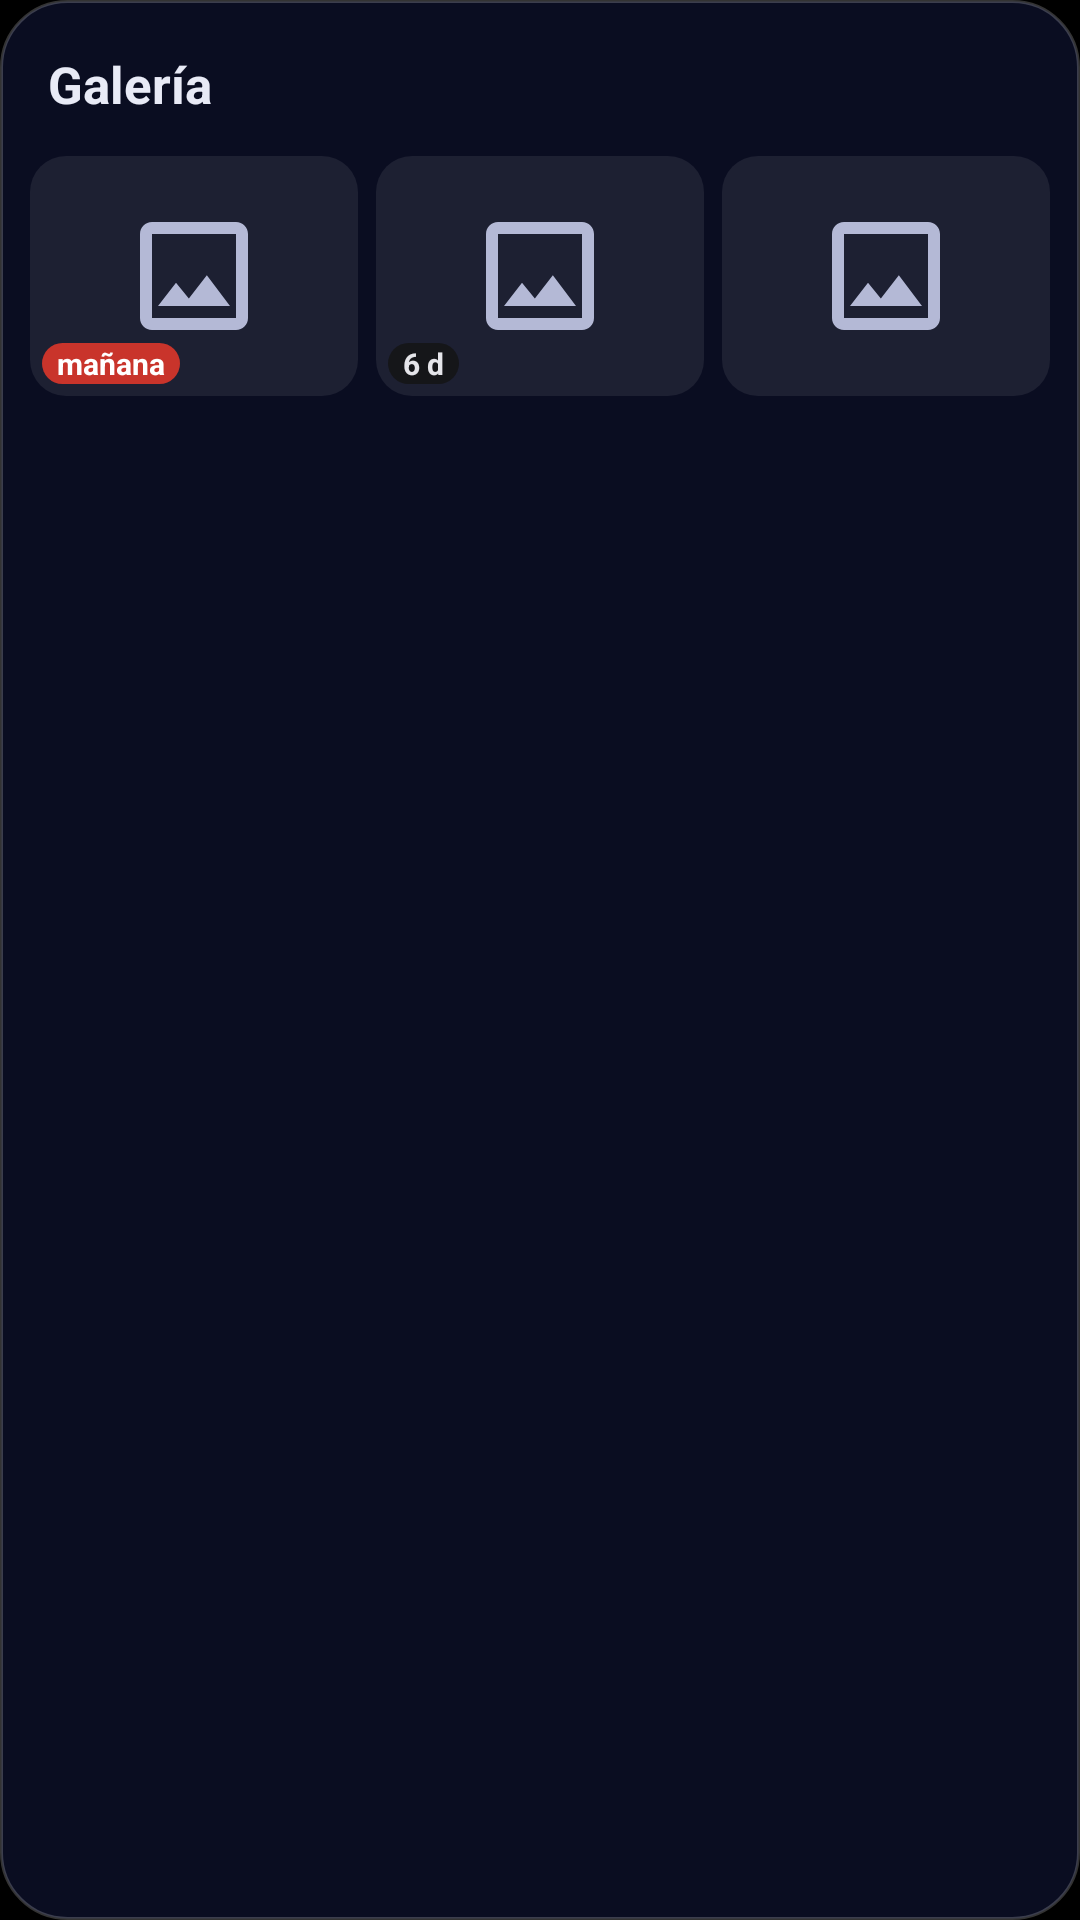

Icon click points for this 1080px×1920px phone screenshot, format point (x, y):
widget sin foto: point (194, 276), point (540, 276), point (886, 276)
